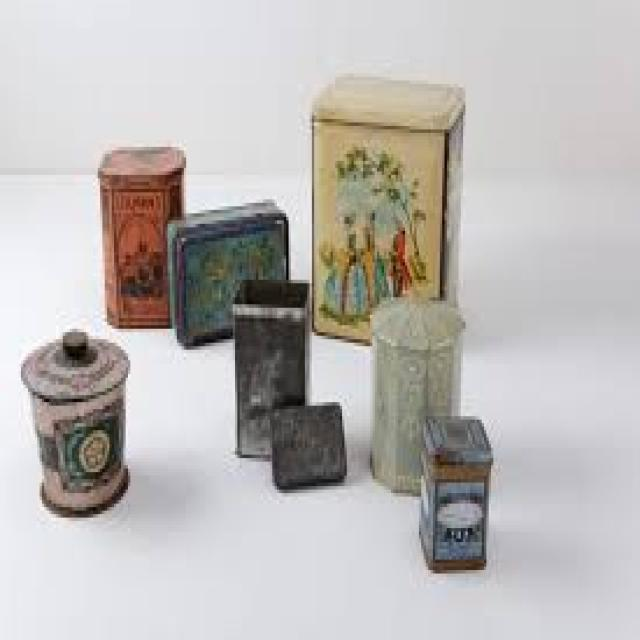metal: (307, 70, 461, 343), (16, 329, 128, 521), (366, 294, 466, 497), (165, 196, 286, 346), (96, 144, 187, 333), (231, 276, 308, 469), (417, 413, 491, 574), (268, 399, 347, 493)
